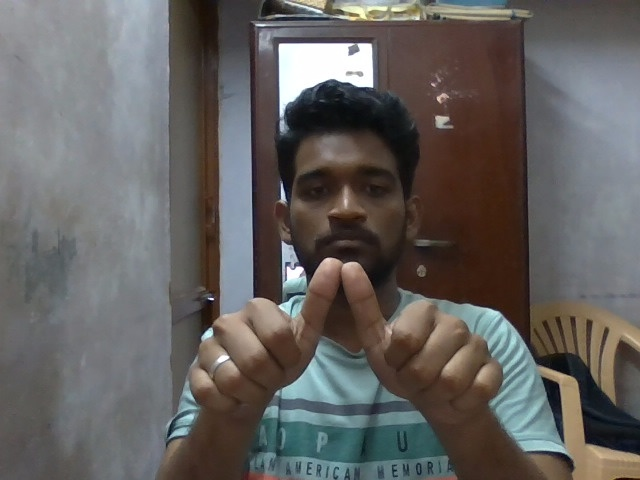A: (180, 251, 512, 438)
